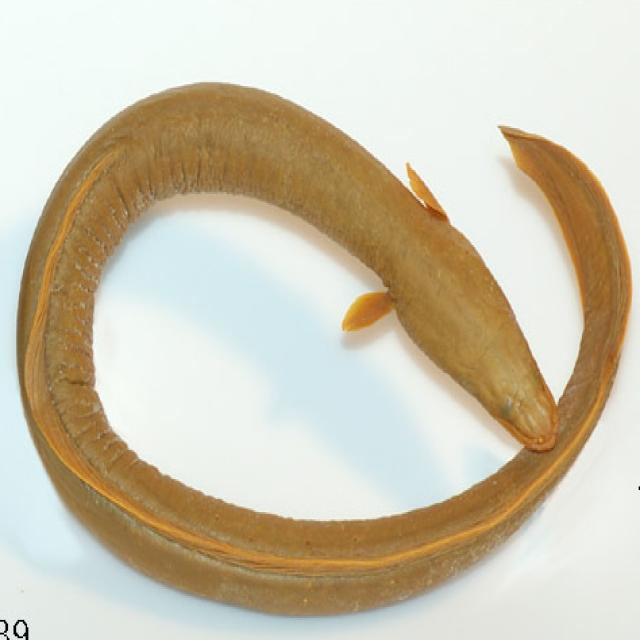Freshwater-Eel: (0, 26, 640, 618)
